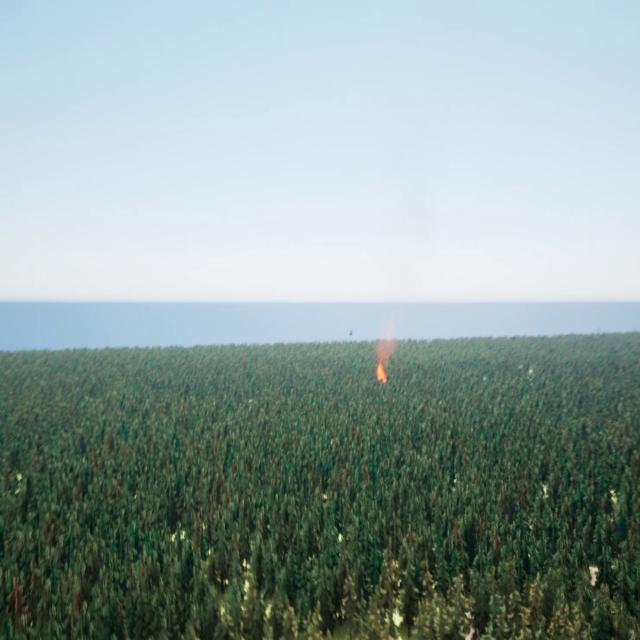fire: (376, 364, 388, 390)
smoke: (372, 316, 397, 366)
